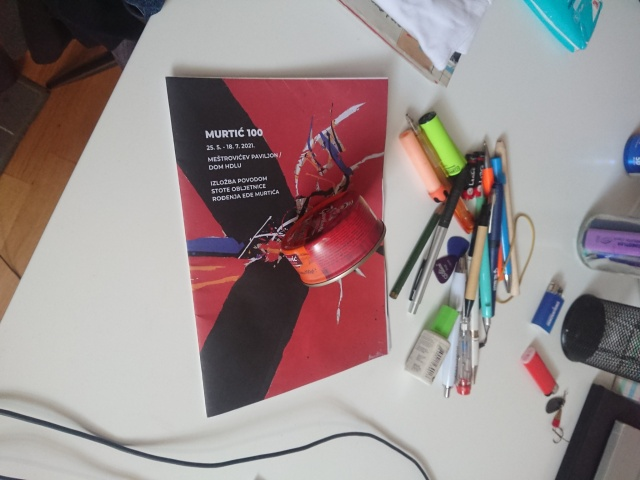Gavrilovic Pork Liver Pate 100g: (277, 186, 387, 290)
